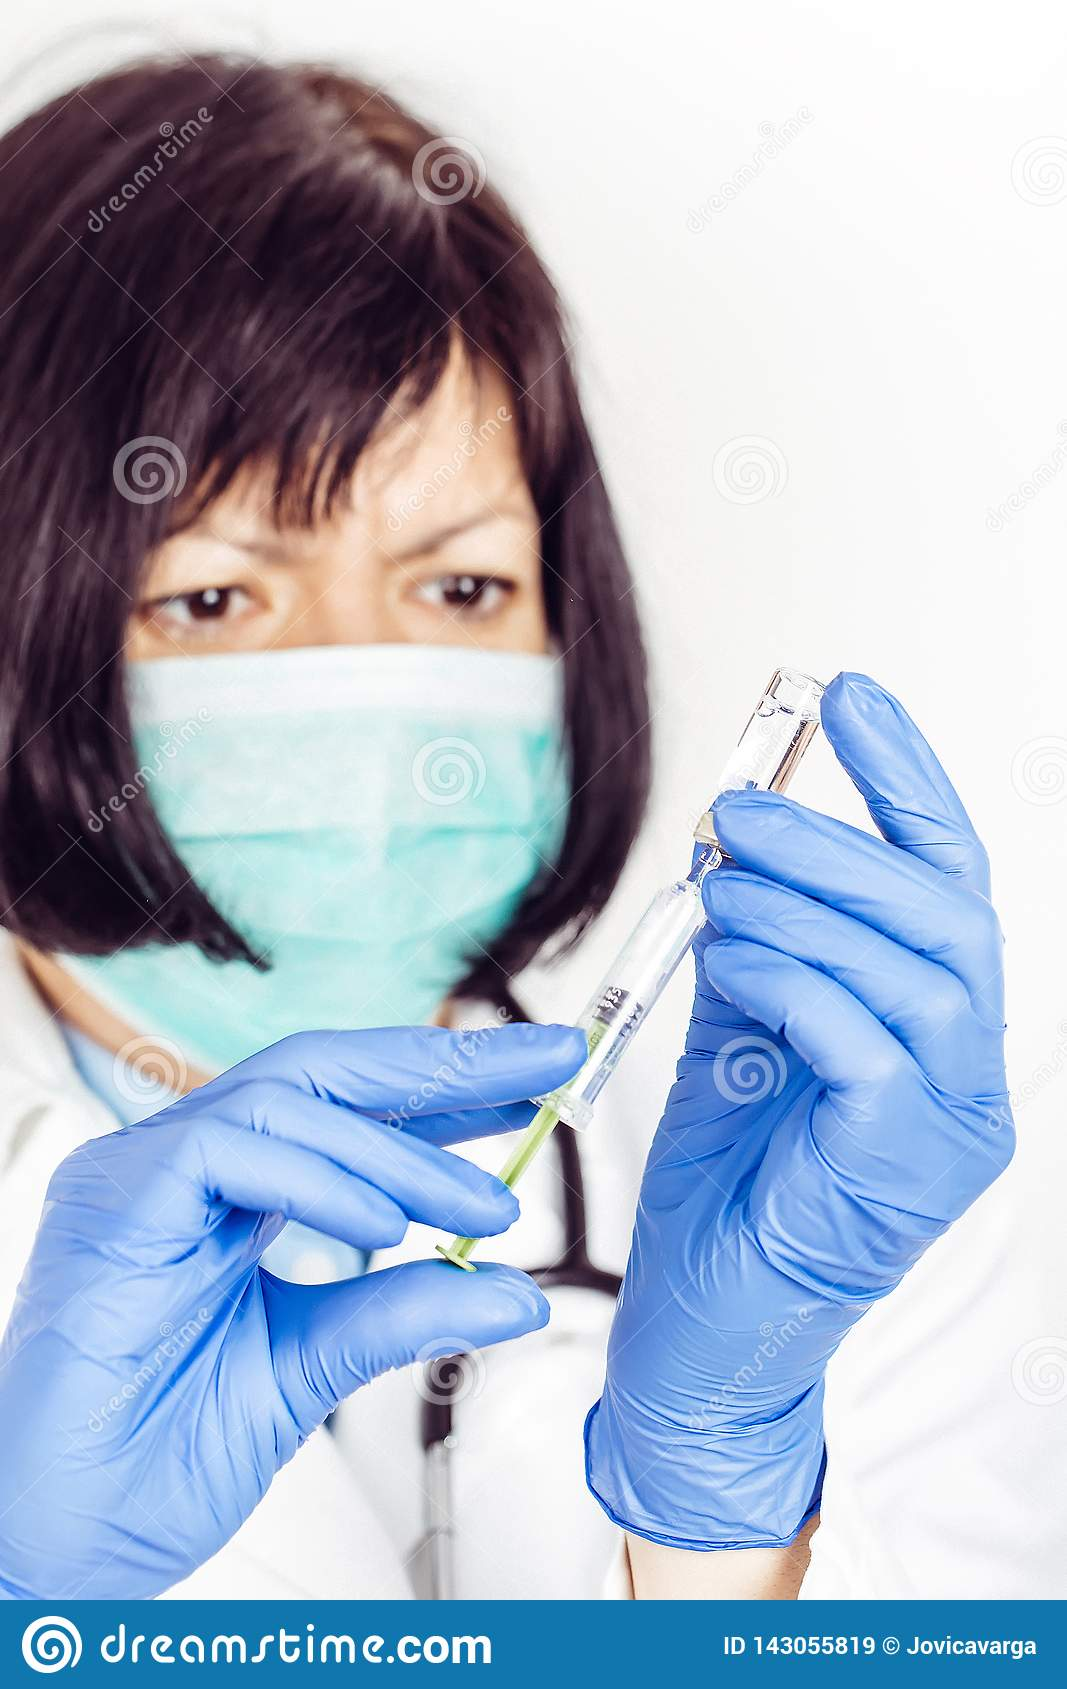mask: (82, 640, 567, 1078)
